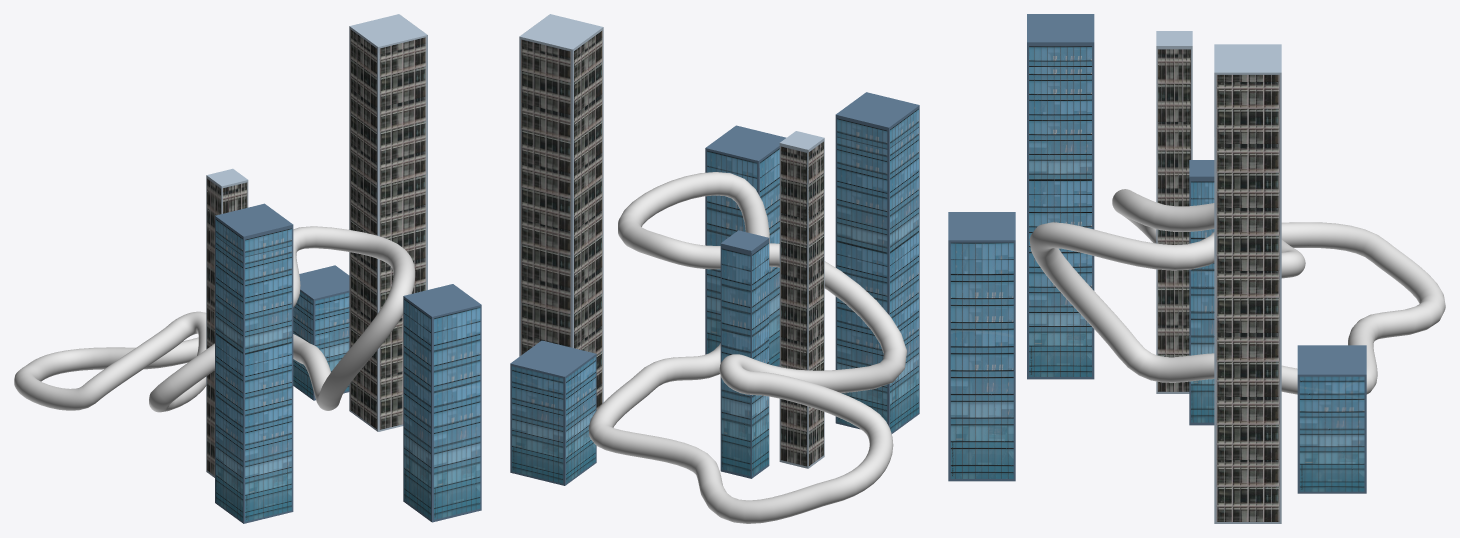
Rendered from map.fbx.
3 views of the same model, side by side, from view 1: azimuth 30°, elevation 25°; view 2: azimuth 150°, elevation 25°; view 3: azimuth 270°, elevation 25° (orthographic). The views are drawn at different scales.
Visible parts, largest first — view 1: Tall, Medium, Inside, Smallish, SmallWideSkyScraper, medium thin; view 2: Inside, Tall, Medium, medium thin, SmallWideSkyScraper, smalish thin, Smallish; view 3: Tall, Inside, Medium, Smallish, SmallWideSkyScraper, medium thin, smalish thin.
Part boxes in pixels (x1,y1,x2,y2): Tall: [349, 14, 427, 431]; Medium: [215, 203, 293, 523]; Inside: [14, 226, 415, 412]; Smallish: [403, 284, 481, 522]; SmallWideSkyScraper: [293, 265, 349, 400]; medium thin: [206, 168, 248, 477]; Inside: [588, 172, 906, 523]; Tall: [519, 14, 603, 409]; Medium: [835, 92, 919, 433]; medium thin: [779, 131, 824, 468]; SmallWideSkyScraper: [510, 340, 596, 485]; smalish thin: [720, 230, 769, 478]; Smallish: [705, 125, 786, 366]; Tall: [1214, 44, 1281, 523]; Inside: [1029, 189, 1445, 394]; Medium: [1027, 14, 1094, 379]; Smallish: [948, 212, 1015, 481]; SmallWideSkyScraper: [1297, 345, 1366, 493]; medium thin: [1156, 31, 1192, 393]; smalish thin: [1189, 160, 1214, 425].
Size of what is drawn, in the model's own units: 51448 by 53472 by 53394.
